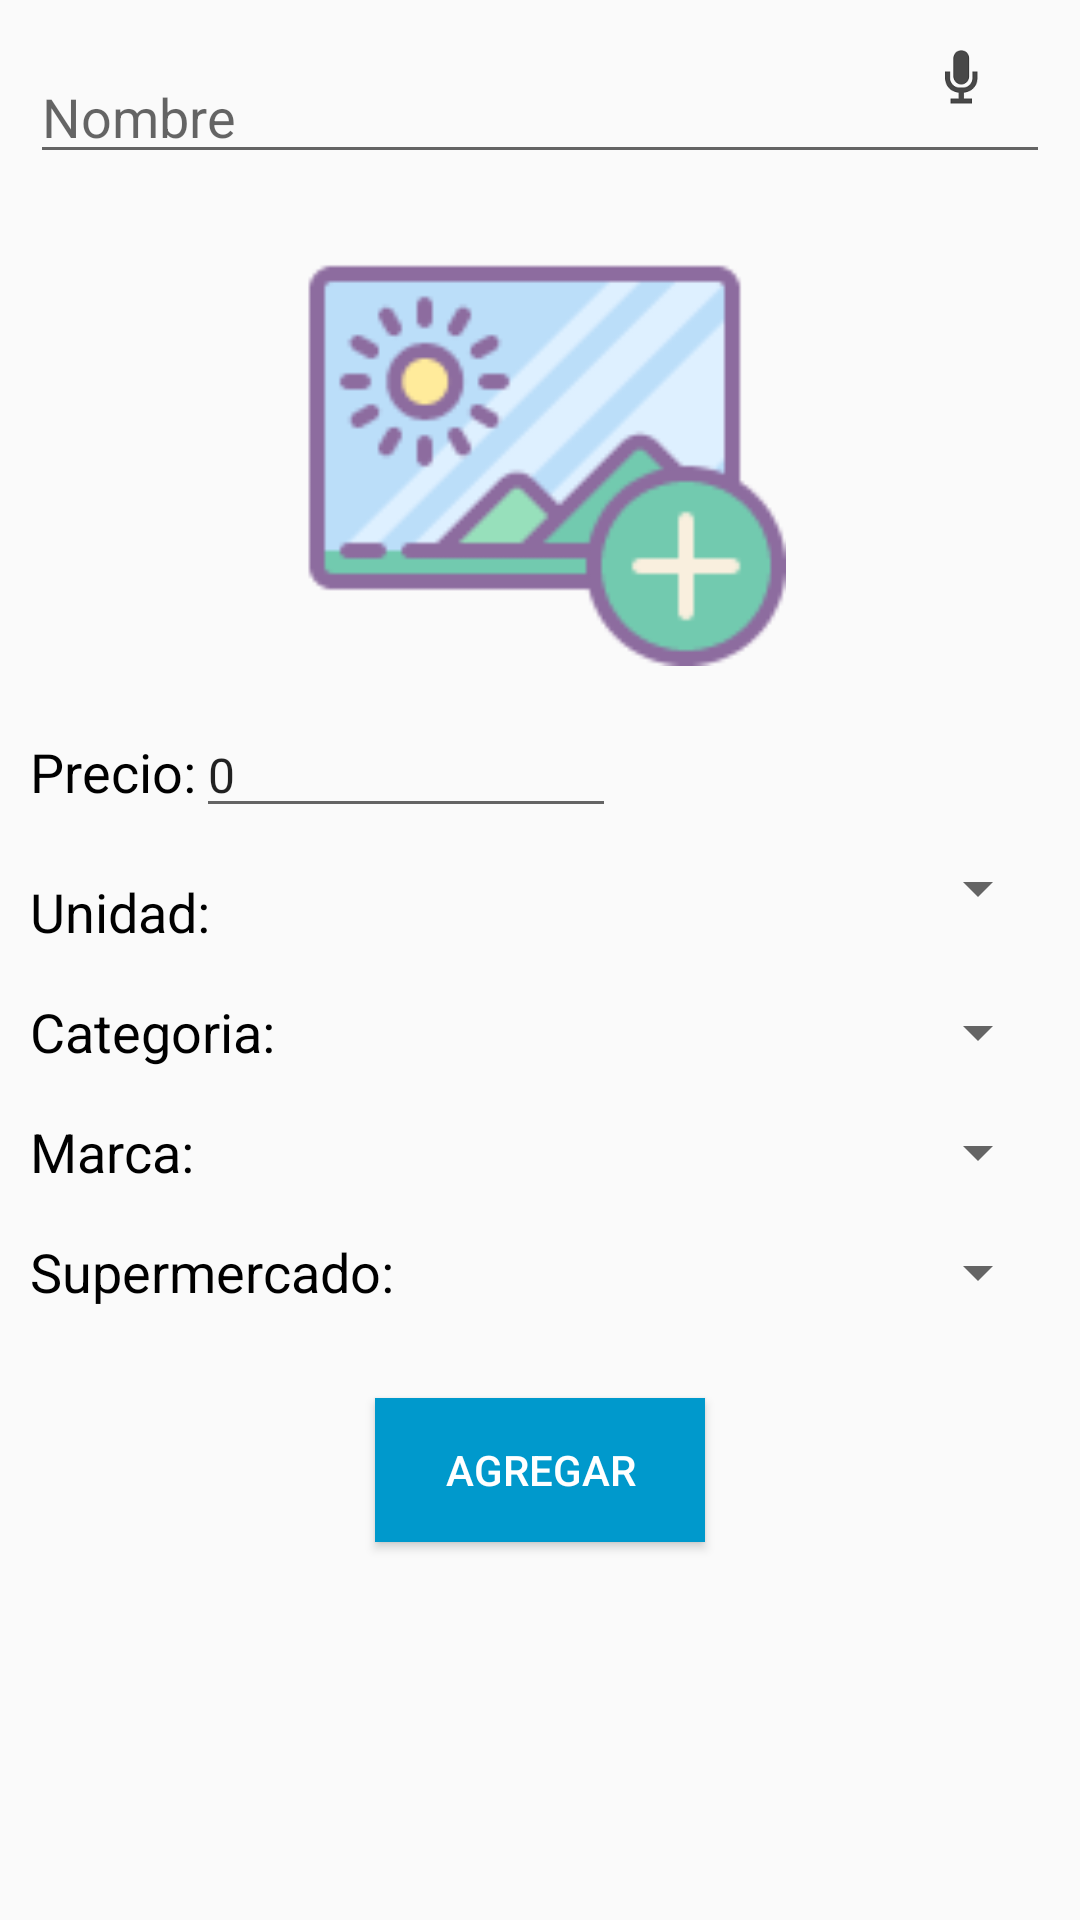

Locate icon controls on the screen. Image size 1080px x 1920px, boxes as (x1, y1, x2, y2).
microphone: (945, 50, 978, 104)
